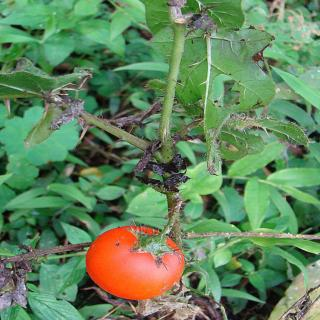tomato: (85, 223, 188, 302)
